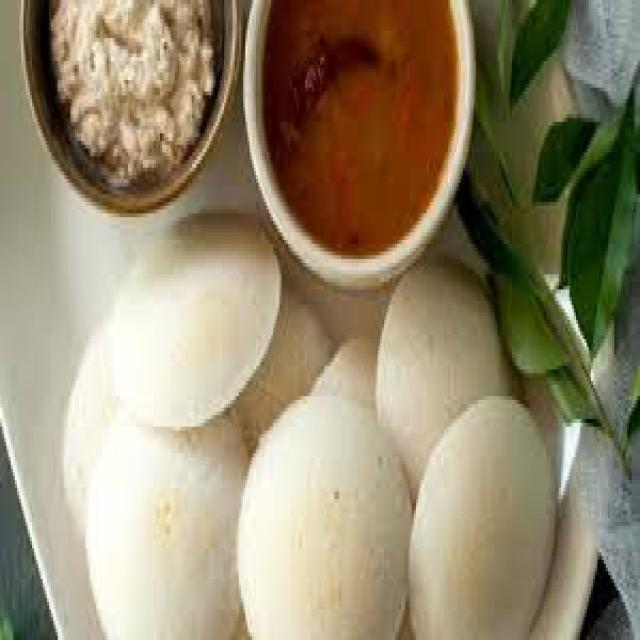IDLI: (235, 384, 411, 636), (105, 214, 282, 428), (85, 405, 247, 631), (409, 396, 553, 636), (379, 257, 515, 479), (233, 311, 333, 452), (66, 349, 129, 530)
